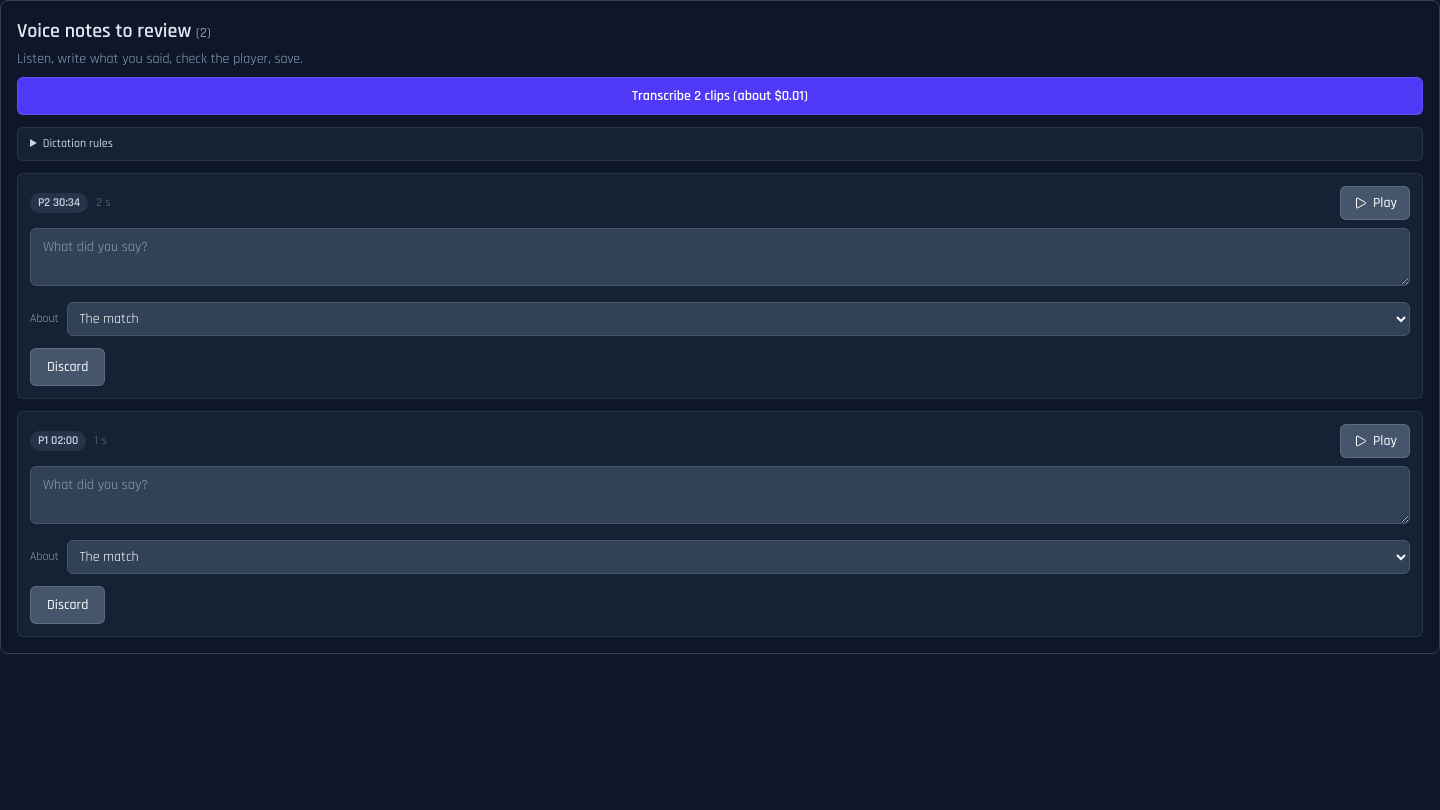
Test: DictationInbox › transcription (PR 5) › transcribes the empty clips with the roster as vocabulary and the player chip follows
Click the button with test id "dictation-transcribe": (720, 96) [17, 77, 1423, 115]
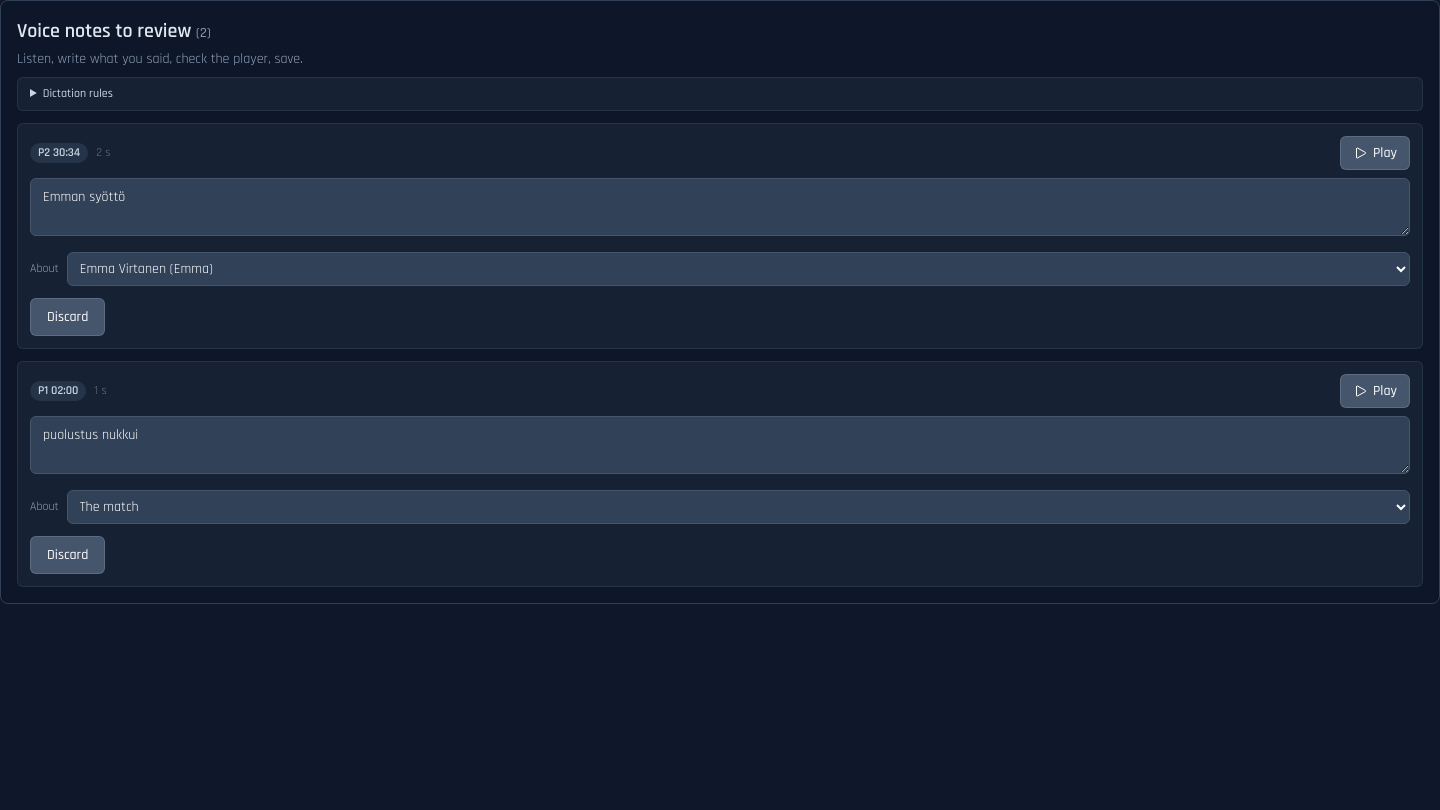
Expected: the text box with test id "dictation-text" holds "Emman syöttö", [30, 178, 1410, 236]
Expected: the text box with test id "dictation-text" holds "puolustus nukkui", [30, 416, 1410, 474]
Expected: the dropdown with test id "dictation-player" shows "Emma Virtanen (Emma)", [67, 252, 1410, 286]
